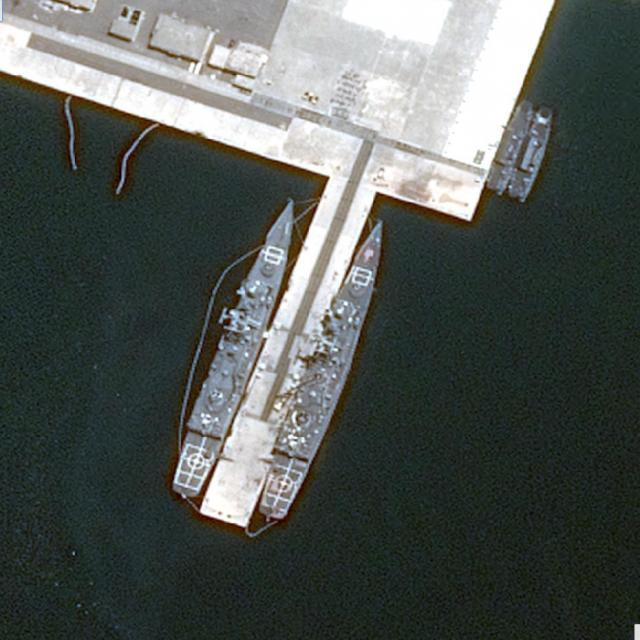Dock: (200, 178, 375, 529)
Frigate: (162, 192, 315, 499), (253, 213, 398, 525)
